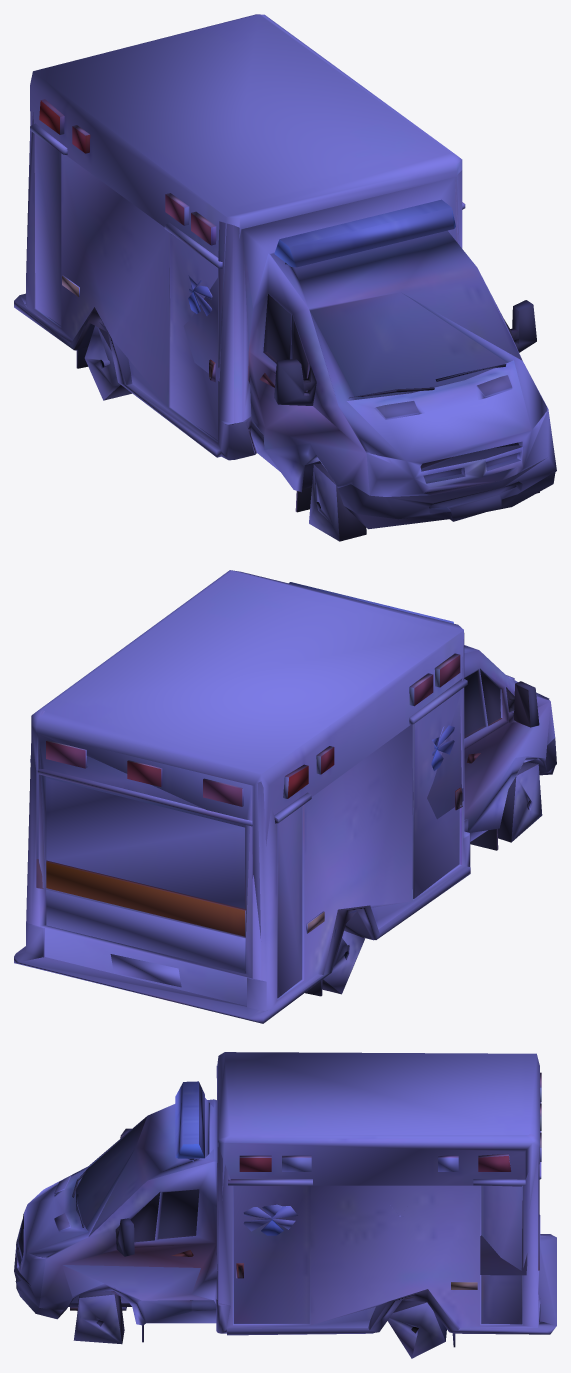
Rendered from model.progressive.glb.
3 renders of one model, top to bottom at view 1: azimuth 30°, elevation 25°; view 2: azimuth 150°, elevation 25°; view 3: azimuth 270°, elevation 25°, orthographic. The views are drawn at different scales.
Visible parts, largest first — view 1: material; view 2: material; view 3: material.
Part boxes in pixels (<box>): material: <box>14,14,556,541</box>; material: <box>14,570,556,1023</box>; material: <box>14,1052,556,1358</box>.
Size of the model in its own units: 0.826 by 0.8494 by 1.9.
Materials: 1 (1 with a texture image).
